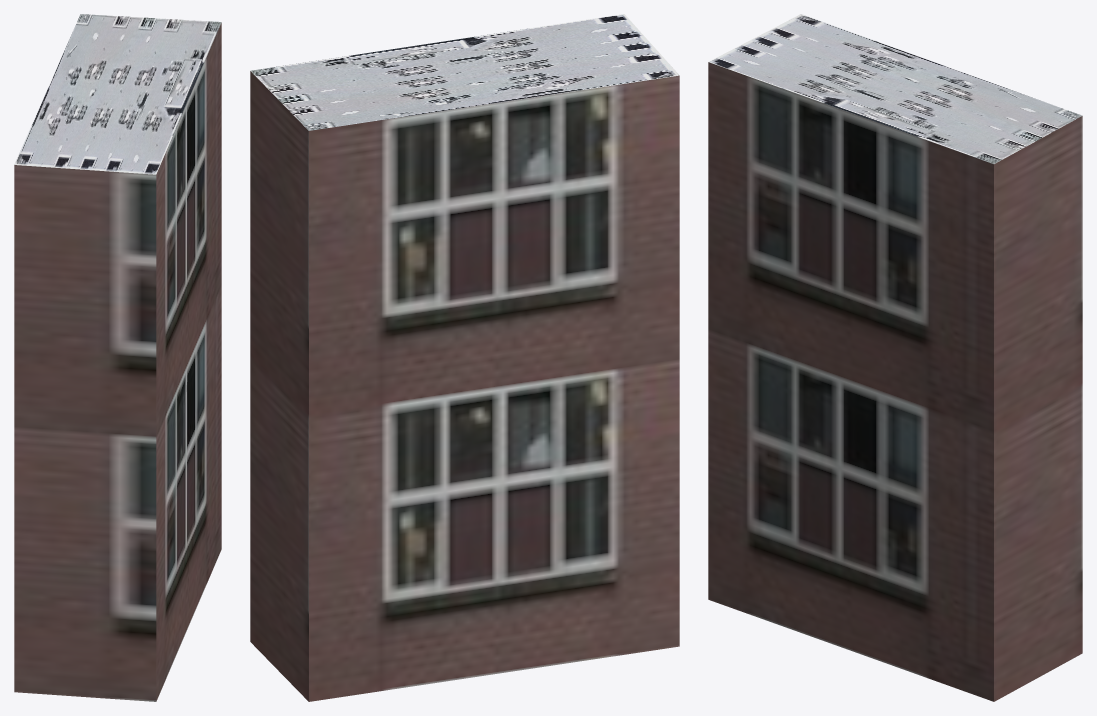
Rendered from ResTex__5231.fbx.
3 views of the same model, side by side, from view 1: azimuth 30°, elevation 25°; view 2: azimuth 150°, elevation 25°; view 3: azimuth 270°, elevation 25° (orthographic). The views are drawn at different scales.
Parts seen in each view (by area): view 1: CityEngineMaterial_12_m, CityEngineMaterial_m; view 2: CityEngineMaterial_12_m, CityEngineMaterial_m; view 3: CityEngineMaterial_12_m, CityEngineMaterial_m.
Part boxes in pixels (x1,y1,x2,y2): CityEngineMaterial_12_m: (14, 23, 221, 701); CityEngineMaterial_m: (14, 14, 221, 174); CityEngineMaterial_12_m: (250, 71, 679, 701); CityEngineMaterial_m: (250, 14, 679, 130); CityEngineMaterial_12_m: (708, 62, 1082, 701); CityEngineMaterial_m: (709, 14, 1082, 163).
Bounding box in the file's own units: 3.6 × 6 × 3.79.
2 materials, 2 textured.
